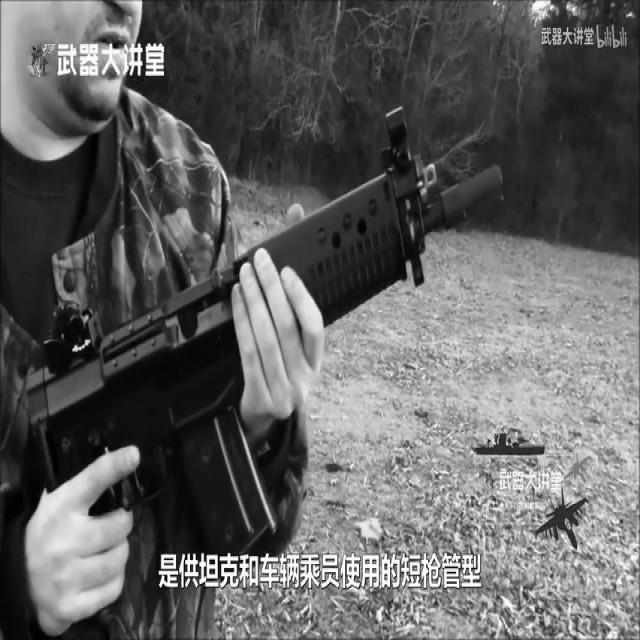Rifle: (0, 76, 540, 640)
